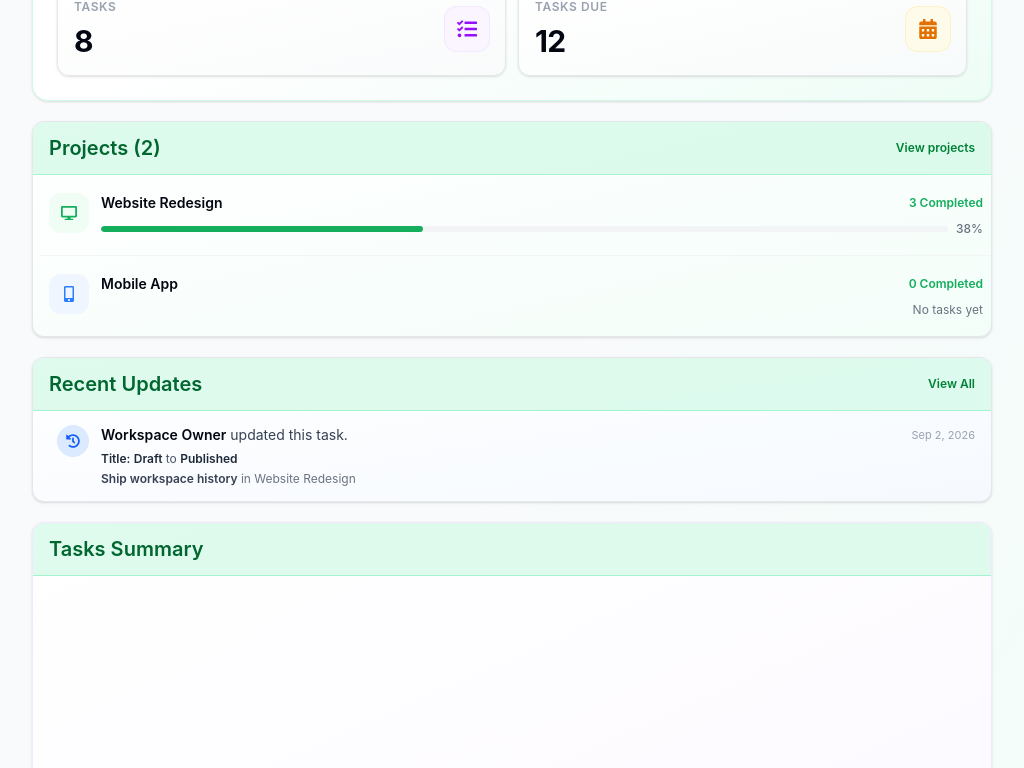
Scenario: Workspace overview › opens the recent updates dialog
(page scrolled)
Click the button "View All": (952, 384) [928,376,975,392]
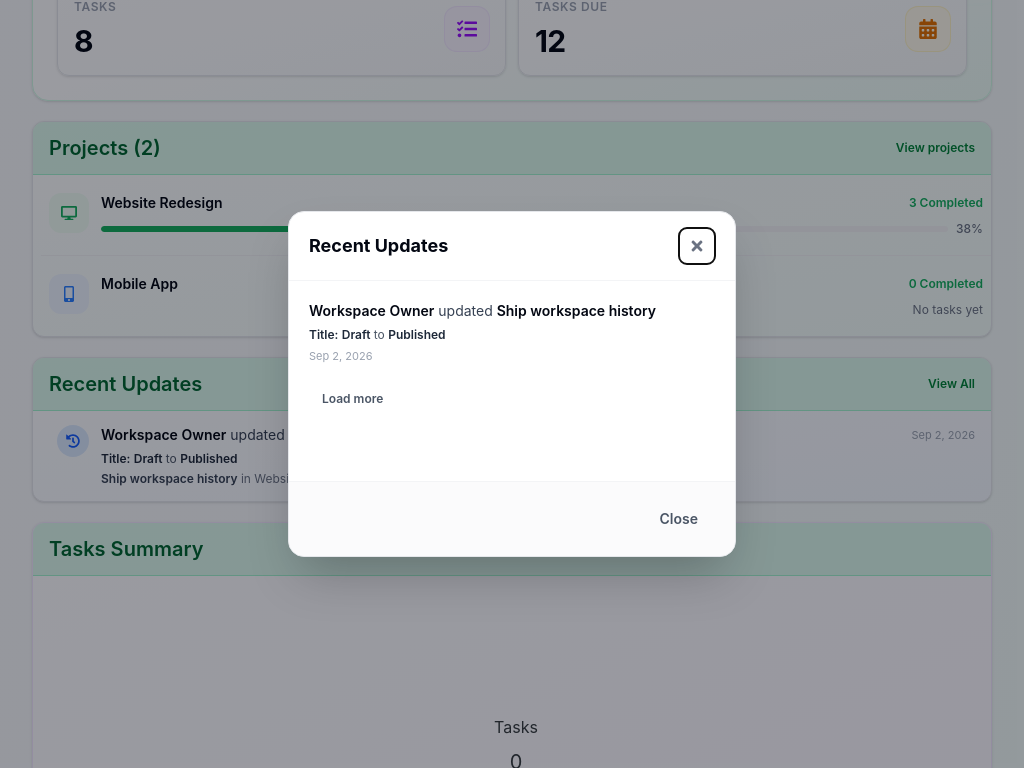
Now the dialog "Recent Updates" is shown, box [288,211,736,557]
Now the text "Published" is shown 2 times, box [180,451,238,466]; [388,327,446,342]
Click the button "Load more": (353, 399) [309,381,396,417]
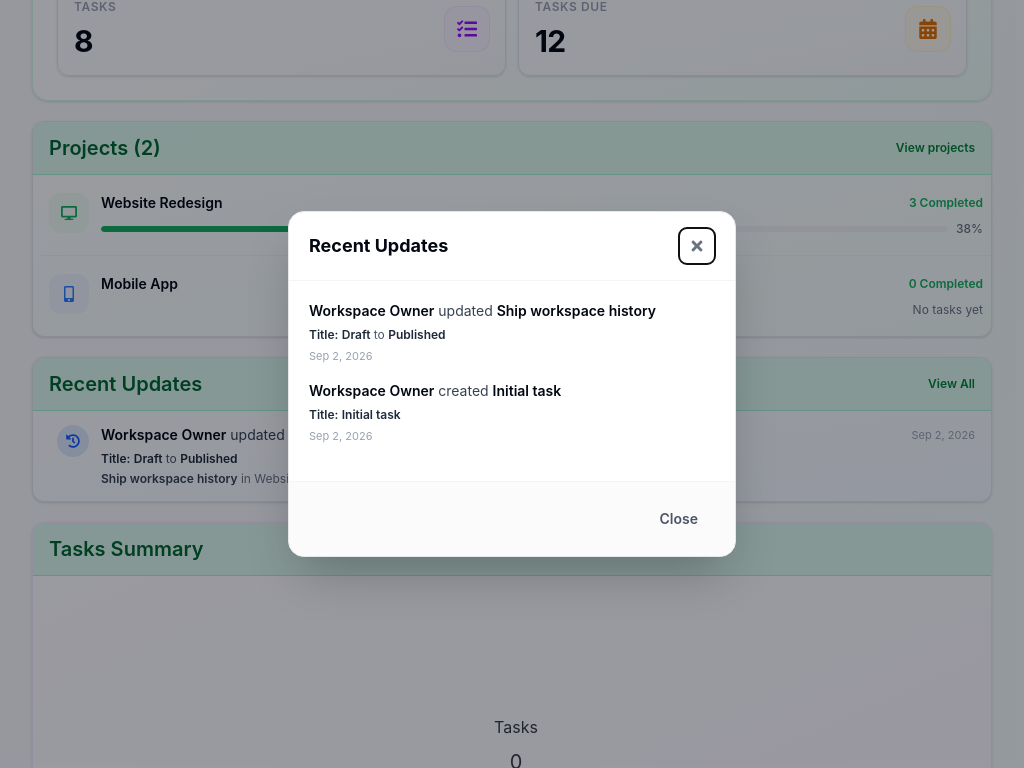
Now the text "Initial task" is shown 2 times, box [493,382,561,399]; [342,407,401,422]
